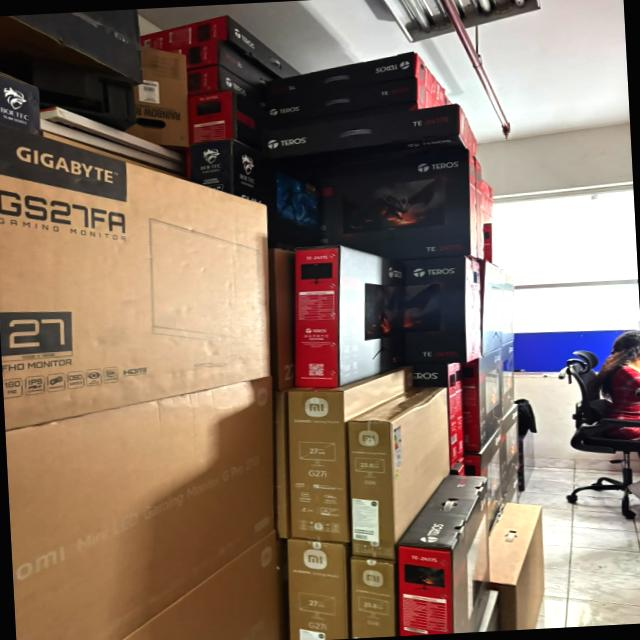caja-monitor: (0, 125, 269, 429), (5, 378, 274, 640), (289, 365, 414, 542), (348, 386, 449, 560), (120, 533, 284, 640), (317, 152, 478, 260), (294, 246, 404, 387), (398, 475, 490, 635), (264, 104, 478, 169), (139, 15, 302, 79), (266, 52, 445, 106), (268, 78, 443, 123), (488, 502, 544, 631), (188, 139, 277, 210), (406, 362, 465, 469), (288, 538, 349, 640), (169, 40, 278, 91), (188, 91, 267, 151), (463, 347, 502, 453), (465, 426, 504, 529), (351, 554, 396, 638), (186, 65, 267, 109), (480, 261, 505, 356), (501, 406, 519, 492), (502, 275, 517, 345), (502, 341, 515, 418)
